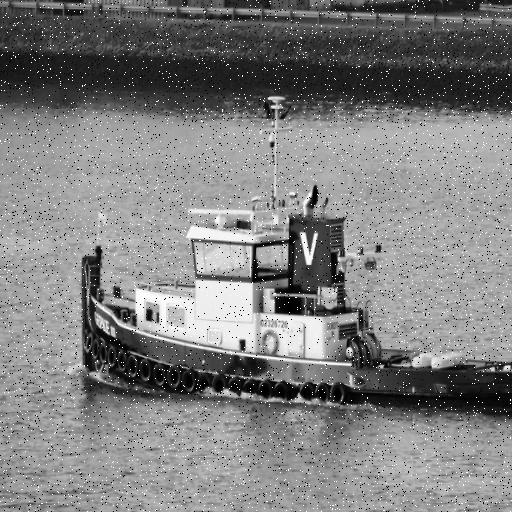tugboat: (78, 92, 512, 423)
